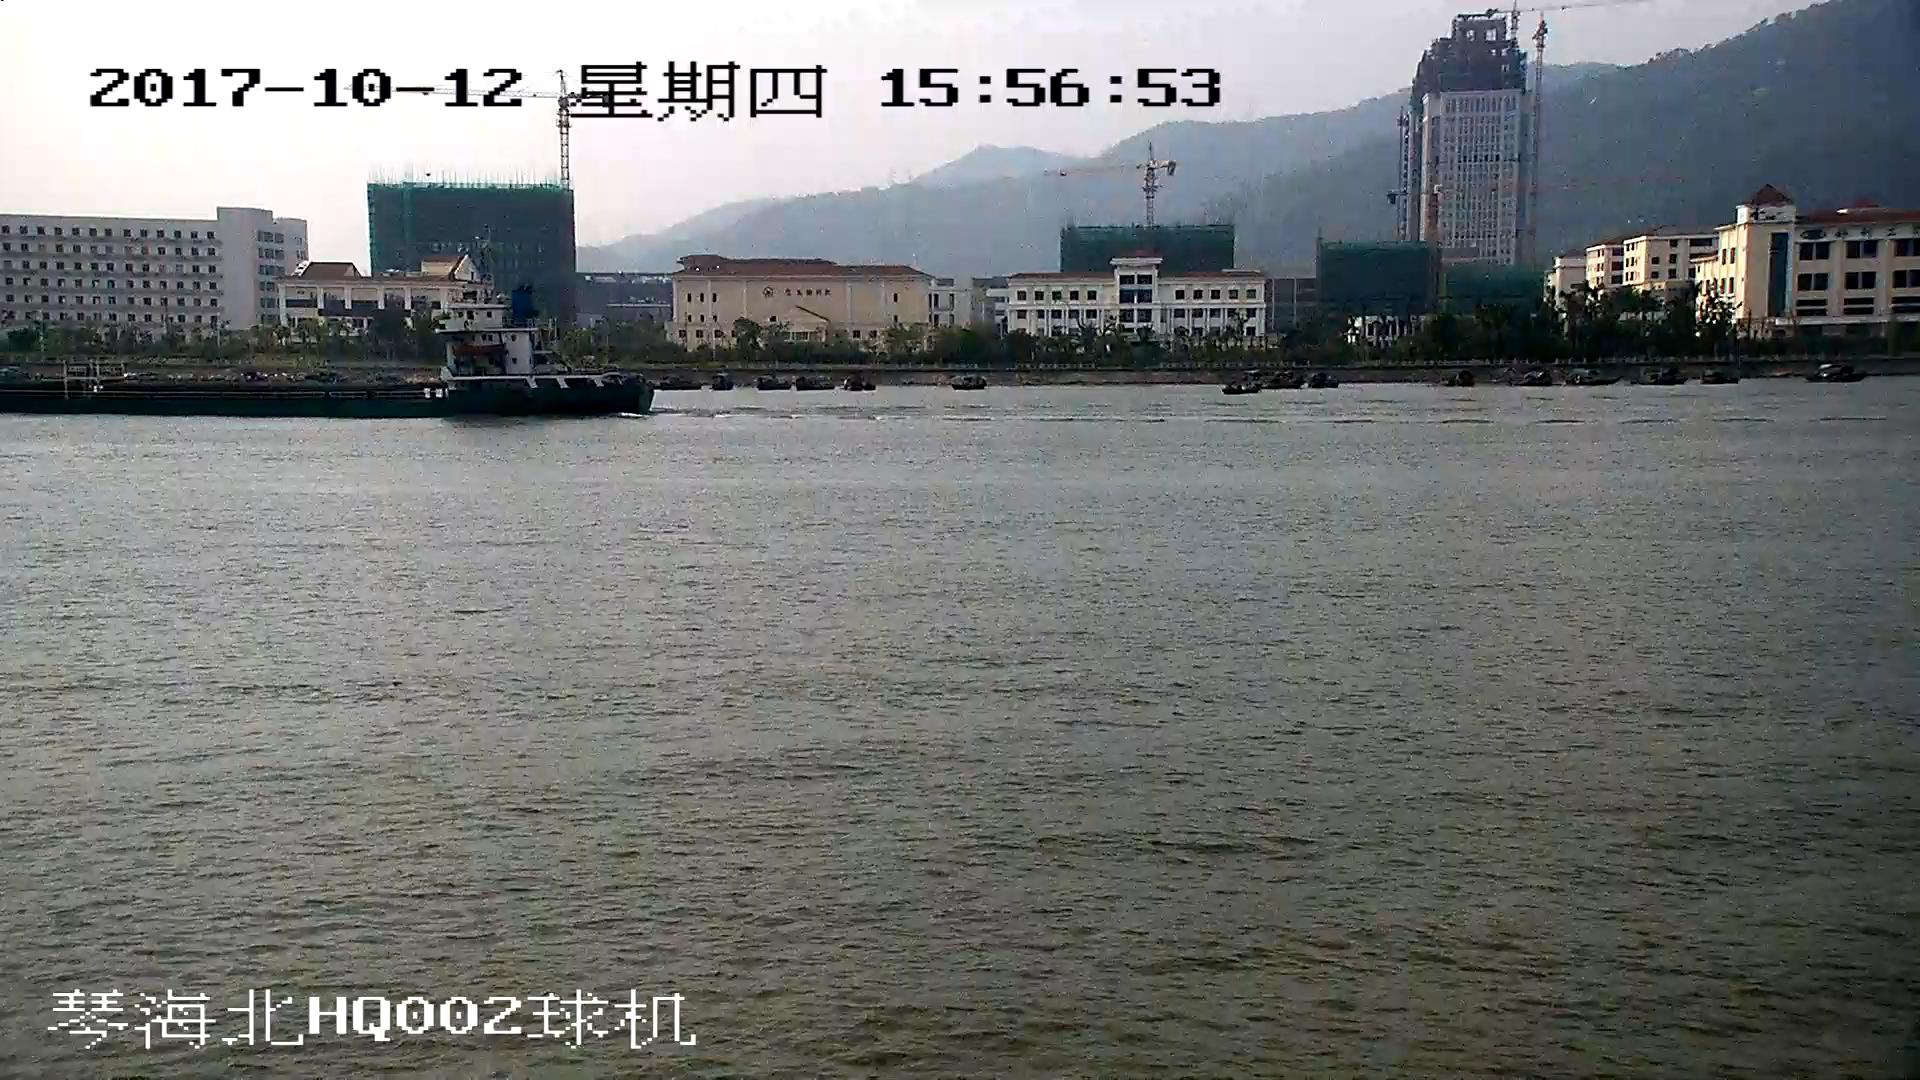general cargo ship: (1, 282, 655, 420)
